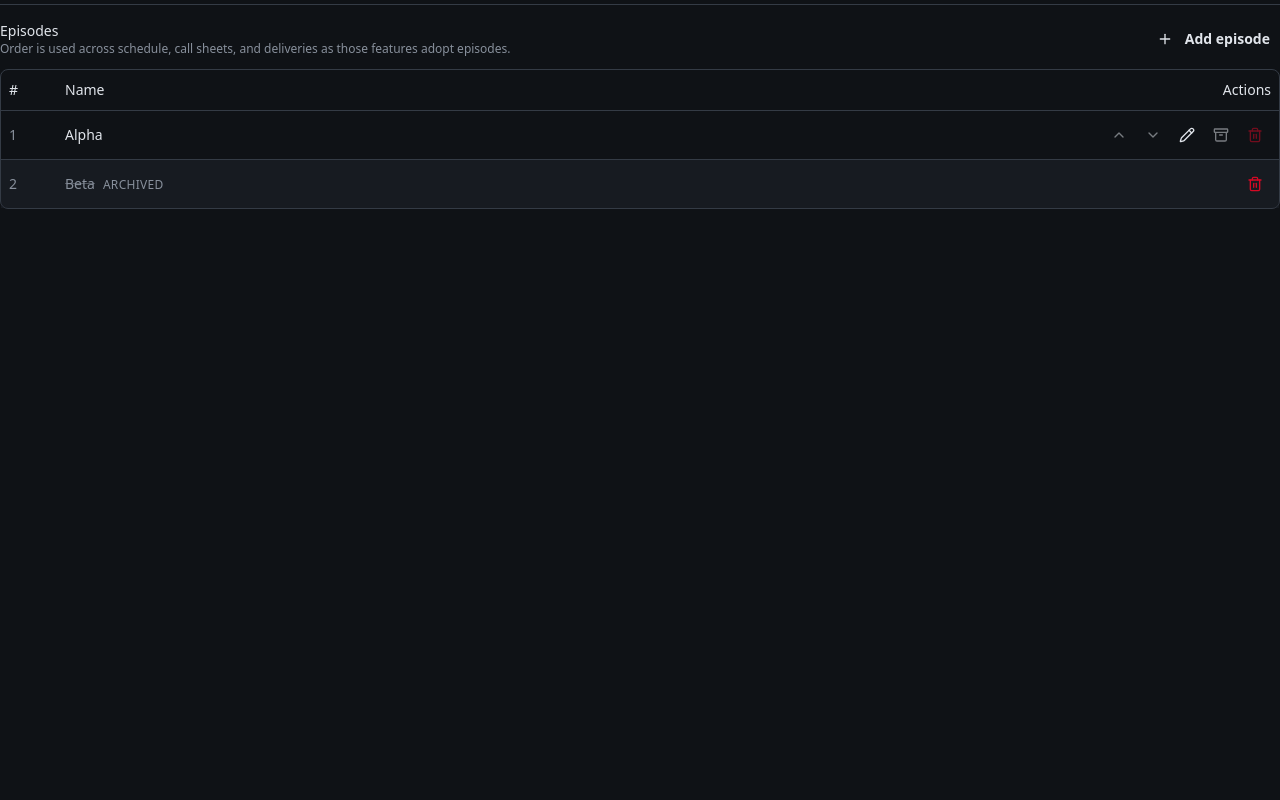
Scenario: EpisodesSettingsSection › create rejects blank name in dialog
Check: the text "Alpha" is shown, box [65,124,103,144]
Step 1. Click the button "Add episode" → (1213, 39), box [1147,23,1279,55]
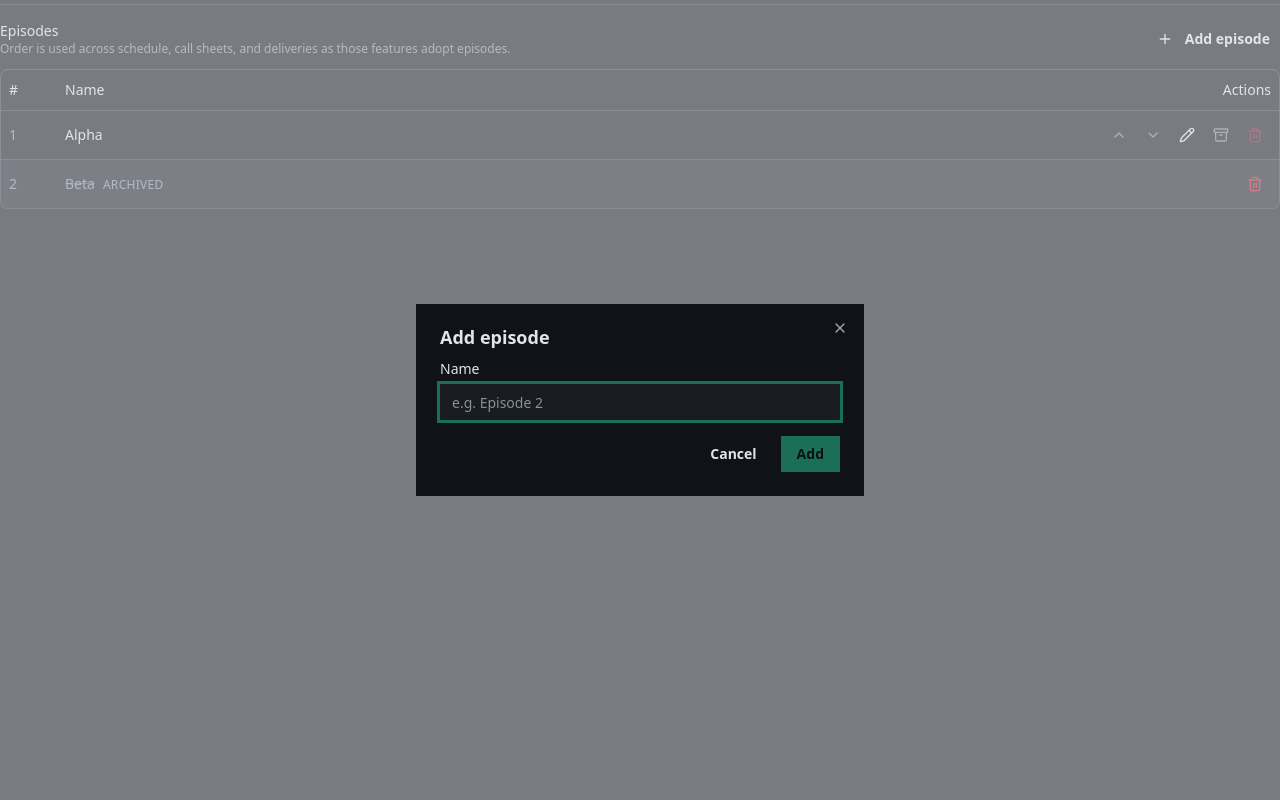
Check: the button "Add" is disabled, box [781,436,840,472]
